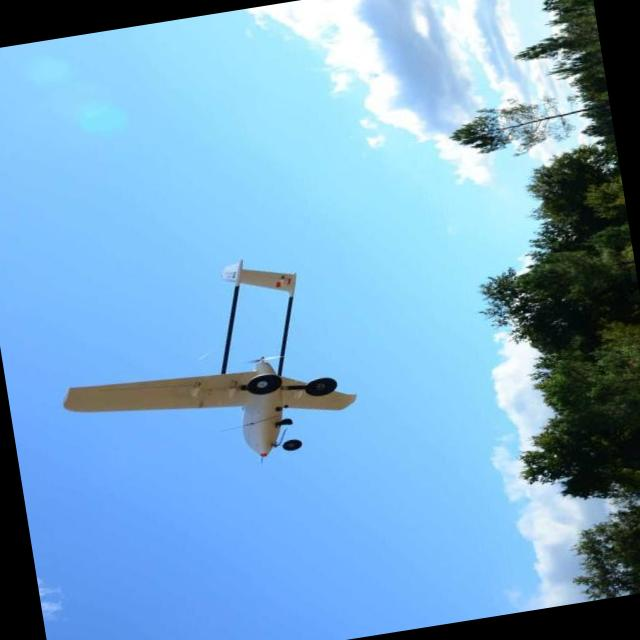UAV: (42, 226, 404, 499)
